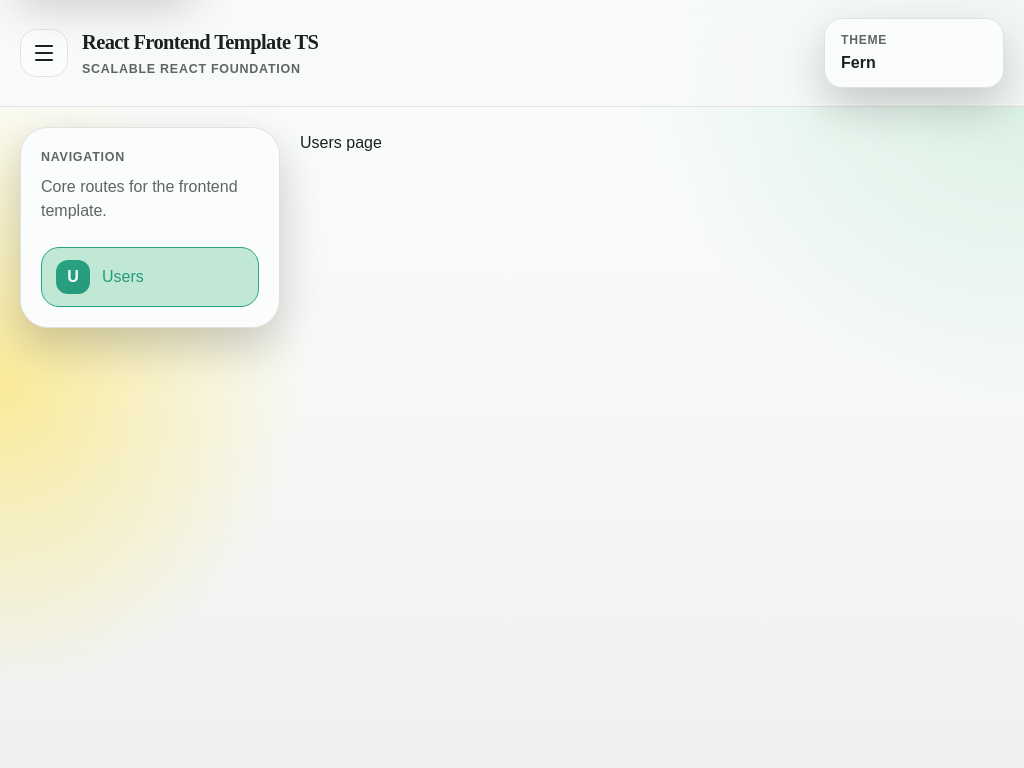
it: AppLayout › keeps the layout interactive when browser storage is unavailable
This screenshot has width=1024, height=768.
What coordinates should you click on to do the following:
click the button named "Collapse navigation"
I would click on:
 (44, 53)
Its box is x1=20 y1=29 x2=68 y2=77.
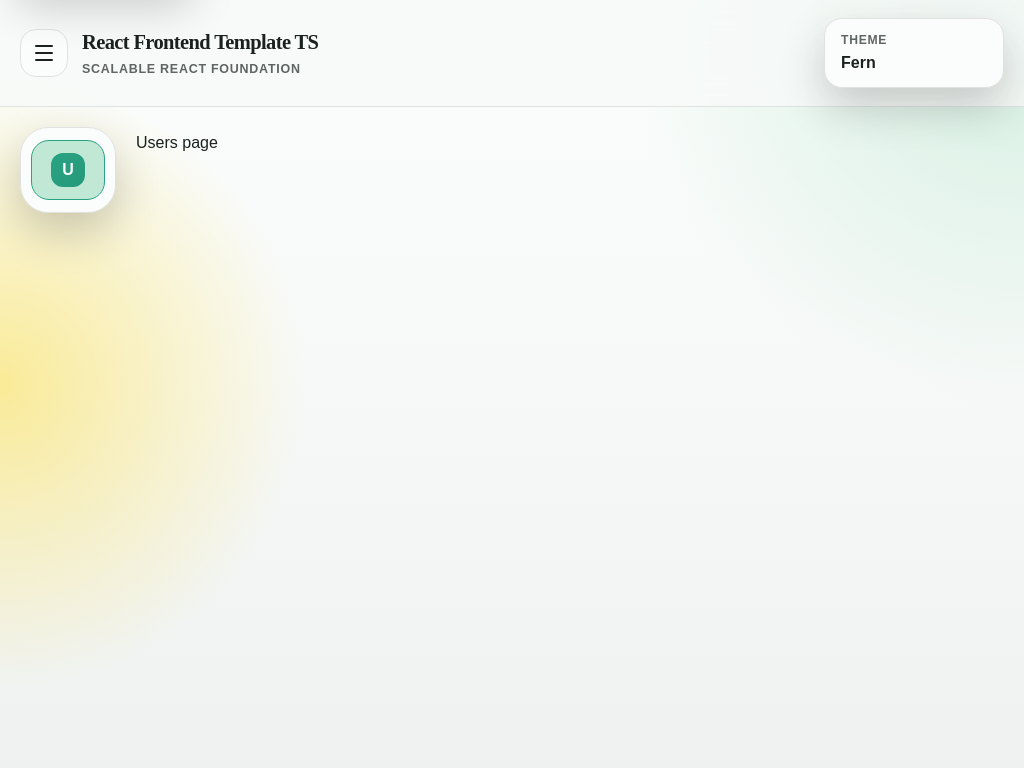
Result: the element with class "app-frame" has class "app-frame--sidebar-collapsed" at x1=0 y1=0 x2=1023 y2=213
What coordinates should you click on to do the following:
click the button "Theme Fern"
I would click on:
 (914, 53)
Its box is x1=824 y1=18 x2=1004 y2=88.
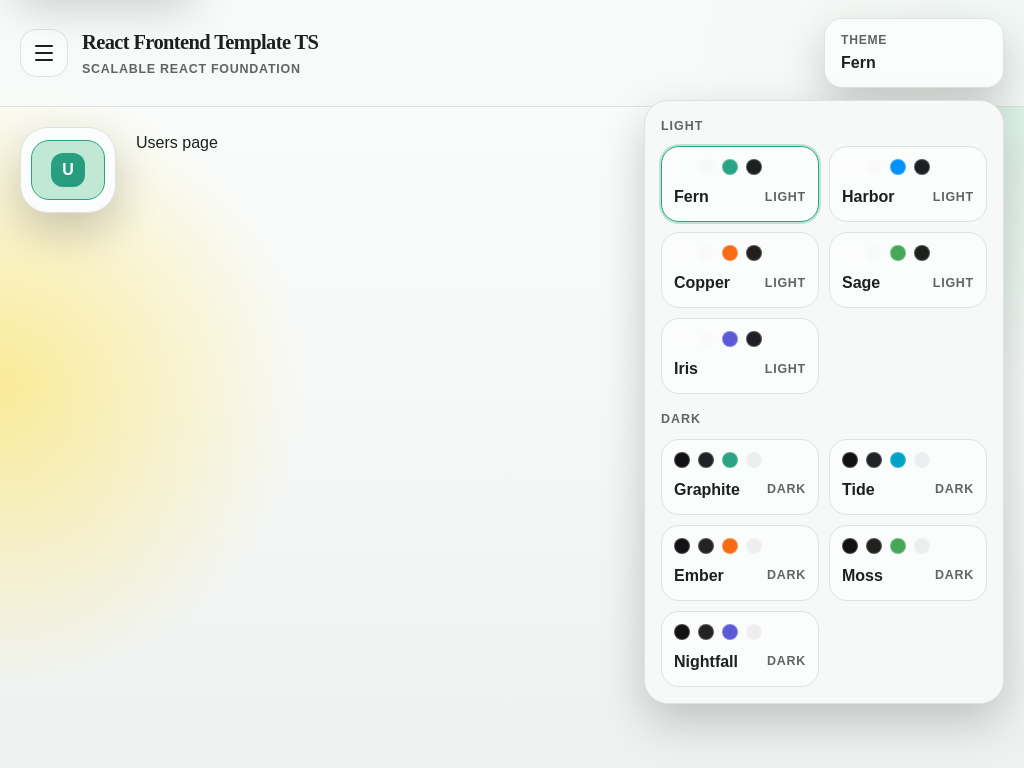
What coordinates should you click on to do the following:
click the button "Nightfall Dark"
I would click on:
 (740, 649)
Its box is x1=661 y1=611 x2=819 y2=687.
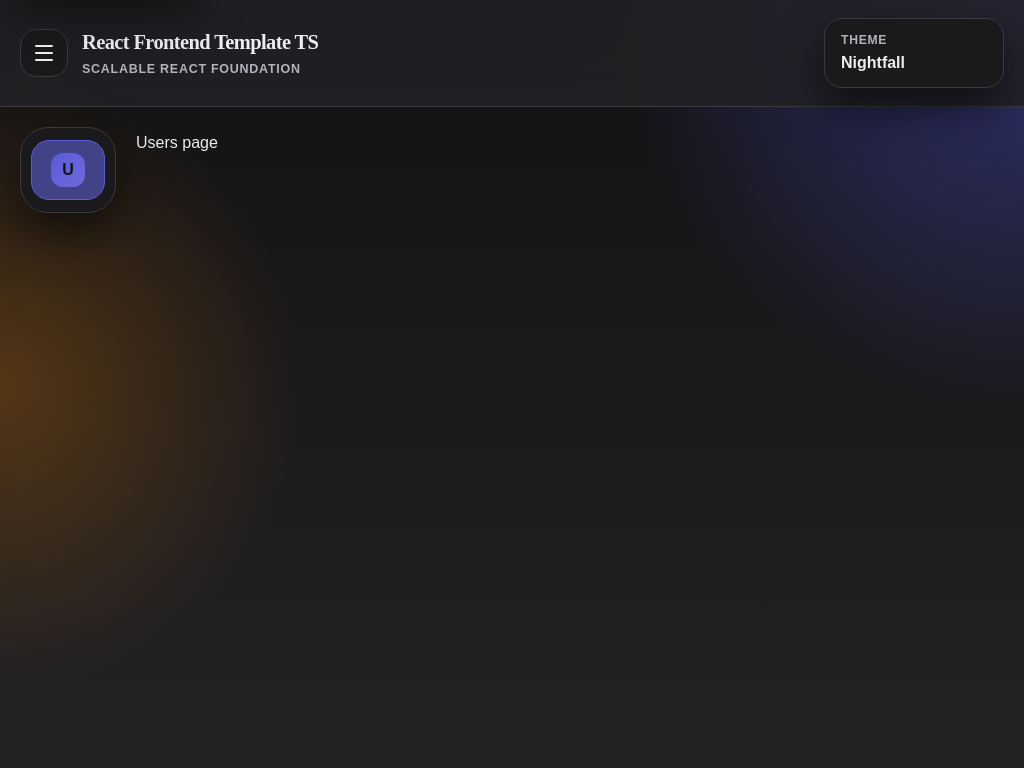
Result: the button "Theme Nightfall" is shown at x1=824 y1=18 x2=1004 y2=88
